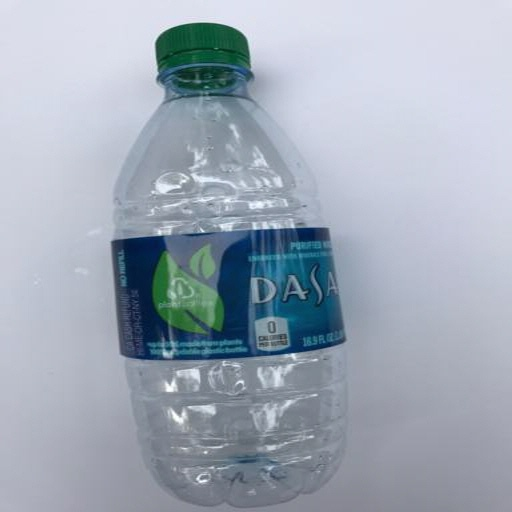Plastic_0: (110, 21, 350, 512)
